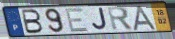9: (44, 7, 65, 35)
A: (132, 5, 159, 32)
B: (21, 9, 45, 34)
E: (64, 7, 90, 33)
J: (91, 7, 109, 32)
R: (106, 5, 134, 32)
